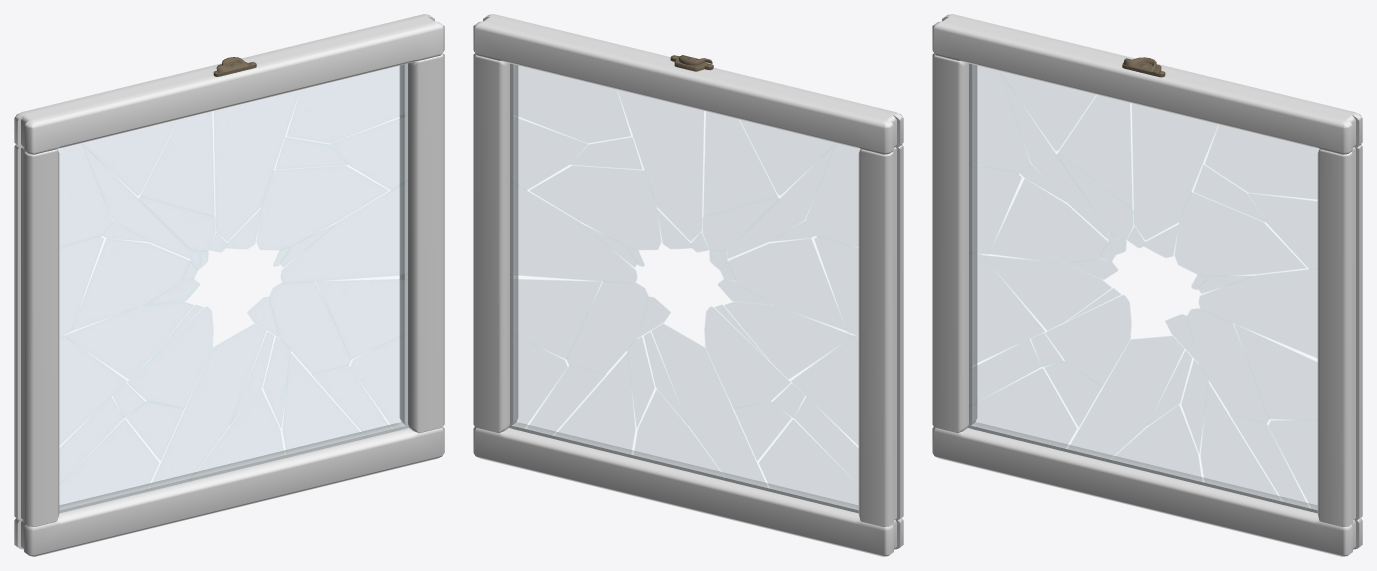
File: glass_broken_window.glb
The picture shows the model from 3 angles, left to right: view 1: azimuth 30°, elevation 25°; view 2: azimuth 150°, elevation 25°; view 3: azimuth 330°, elevation 25°; orthographic projection.
Visible parts, largest first — view 1: WindowsGlass, WindowFrame, WindowClasp; view 2: WindowsGlass, WindowFrame, WindowClasp; view 3: WindowsGlass, WindowFrame, WindowClasp.
Part boxes in pixels (x1,y1,x2,y2): WindowsGlass: (58, 64, 408, 512); WindowFrame: (14, 14, 444, 556); WindowClasp: (213, 57, 256, 76); WindowsGlass: (509, 64, 859, 512); WindowFrame: (473, 14, 903, 556); WindowClasp: (670, 55, 713, 71); WindowsGlass: (968, 64, 1318, 512); WindowFrame: (932, 14, 1362, 556); WindowClasp: (1122, 57, 1165, 77).
Bounding box in the file's own units: 0.508 × 0.5165 × 0.0381.
3 materials, 1 textured.
